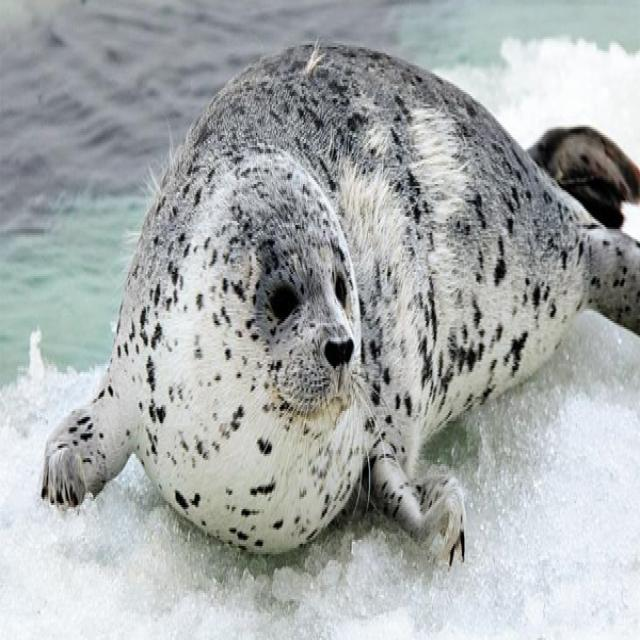WaterDog: (38, 35, 640, 567)
